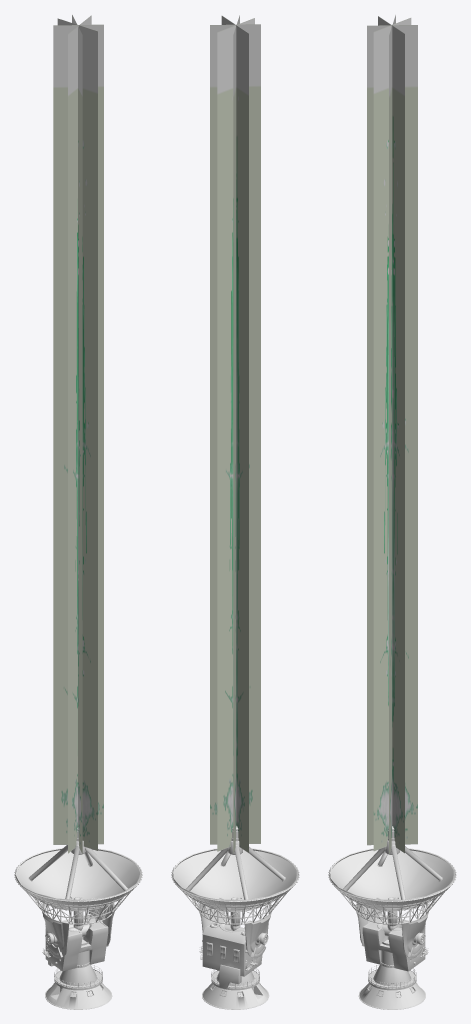
File: leida.glb
3 renders of one model, left to right at view 1: azimuth 30°, elevation 25°; view 2: azimuth 150°, elevation 25°; view 3: azimuth 330°, elevation 25°, orthographic.
Parts seen in each view (by area): view 1: xinHaoBo1, xinHaoTa; view 2: xinHaoBo1, xinHaoTa; view 3: xinHaoBo1, xinHaoTa.
Boxes of the visible parts, bbox=[...] form: xinHaoBo1: bbox=[53, 15, 103, 853]; xinHaoTa: bbox=[14, 827, 142, 1009]; xinHaoBo1: bbox=[210, 15, 260, 853]; xinHaoTa: bbox=[171, 826, 299, 1009]; xinHaoBo1: bbox=[367, 15, 417, 854]; xinHaoTa: bbox=[328, 826, 456, 1009].
Size of the model in its own units: 3.61 by 30.06 by 3.61.
Materials: 2 (1 with a texture image).
